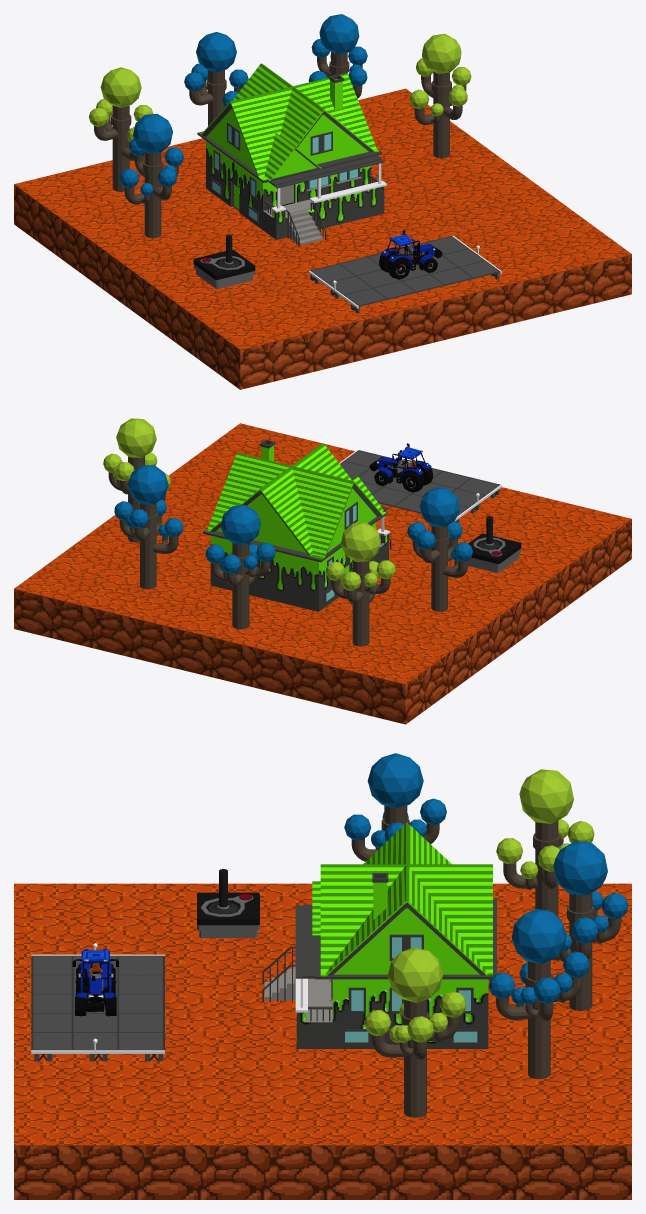
3 renders of one model, top to bottom at view 1: azimuth 30°, elevation 25°; view 2: azimuth 150°, elevation 25°; view 3: azimuth 270°, elevation 25°, orthographic. The views are drawn at different scales.
Visible parts, largest first — view 1: Cube.001, Cube.754, OBJRANDOM_JOYSTICK, VEHICLES_TRACTOR; view 2: Cube.001, Cube.754, VEHICLES_TRACTOR, OBJRANDOM_JOYSTICK; view 3: Cube.001, Cube.754, OBJRANDOM_JOYSTICK, VEHICLES_TRACTOR.
Boxes of the visible parts, bbox=[...] form: Cube.001: bbox=[14, 14, 631, 389]; Cube.754: bbox=[197, 63, 386, 246]; OBJRANDOM_JOYSTICK: bbox=[193, 234, 255, 288]; VEHICLES_TRACTOR: bbox=[379, 230, 442, 279]; Cube.001: bbox=[14, 418, 631, 724]; Cube.754: bbox=[203, 439, 391, 611]; VEHICLES_TRACTOR: bbox=[369, 443, 432, 492]; OBJRANDOM_JOYSTICK: bbox=[468, 516, 521, 572]; Cube.001: bbox=[14, 753, 631, 1199]; Cube.754: bbox=[262, 823, 496, 1048]; OBJRANDOM_JOYSTICK: bbox=[197, 869, 259, 937]; VEHICLES_TRACTOR: bbox=[72, 949, 118, 1016].
Size of the model in its own units: 4000 by 1680 by 4000.
Materials: 31 (5 with a texture image).
